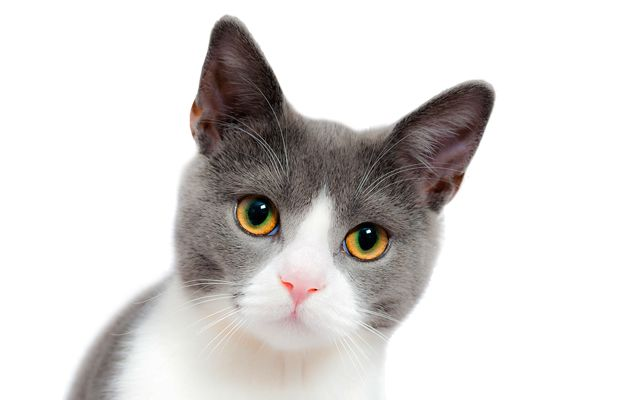cat: (31, 7, 503, 400)
cat-face: (163, 5, 501, 365)
